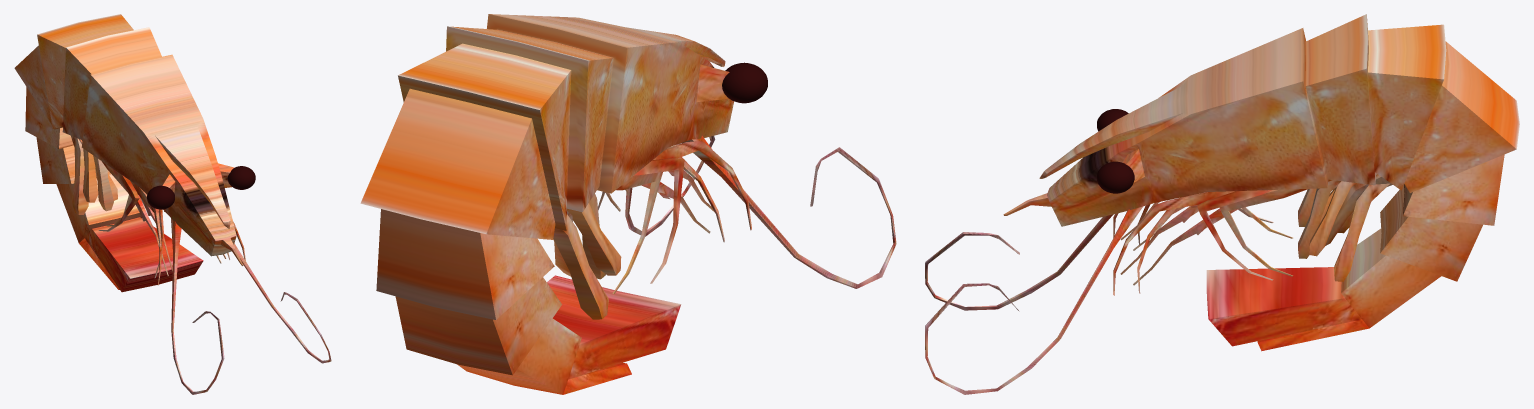
The model's file is Onlyshrimp.glb.
3 renders of one model, left to right at view 1: azimuth 30°, elevation 25°; view 2: azimuth 150°, elevation 25°; view 3: azimuth 270°, elevation 25°, orthographic. The views are drawn at different scales.
Parts seen in each view (by area): view 1: shrimp; view 2: shrimp; view 3: shrimp.
Part boxes in pixels (x1,y1,x2,y2): shrimp: (14,14,331,394); shrimp: (360,14,896,394); shrimp: (925,14,1519,394).
Bounding box in the file's own units: 1.57 × 2.68 × 4.62.
2 materials, 1 textured.
